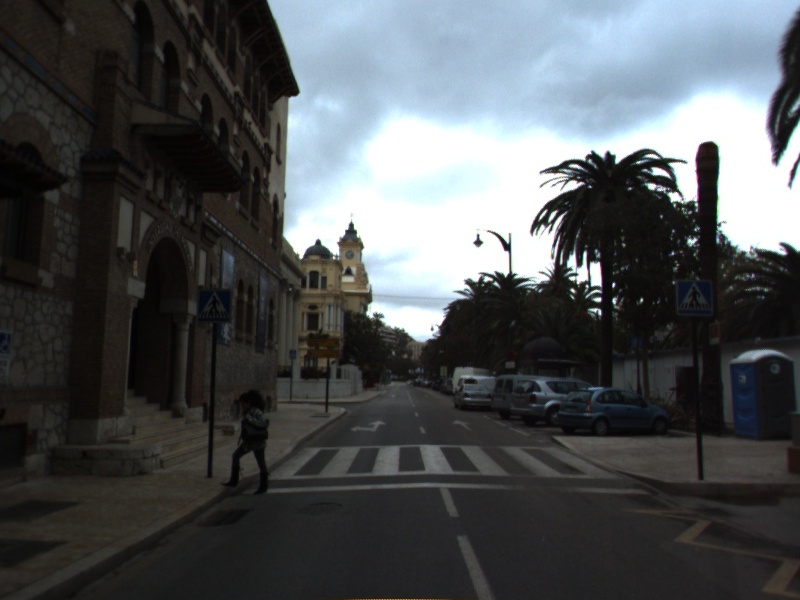STRAIGHT: (450, 417, 475, 433)
STRAIGHT_LEFT: (348, 419, 389, 434)
